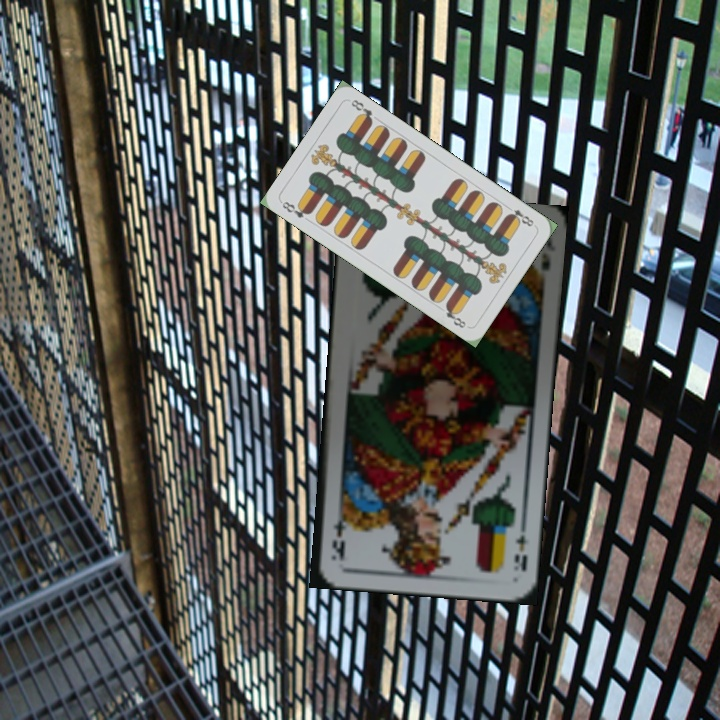E8: (502, 201, 536, 229), (278, 197, 314, 221)
EK: (509, 518, 532, 575)
